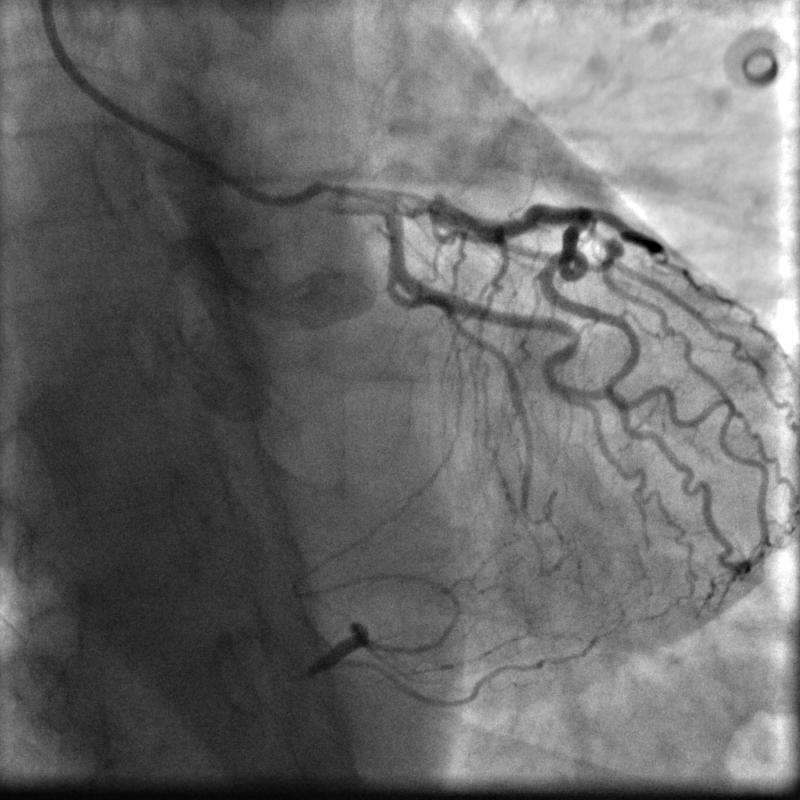Stenosis: (405, 187, 442, 224)
